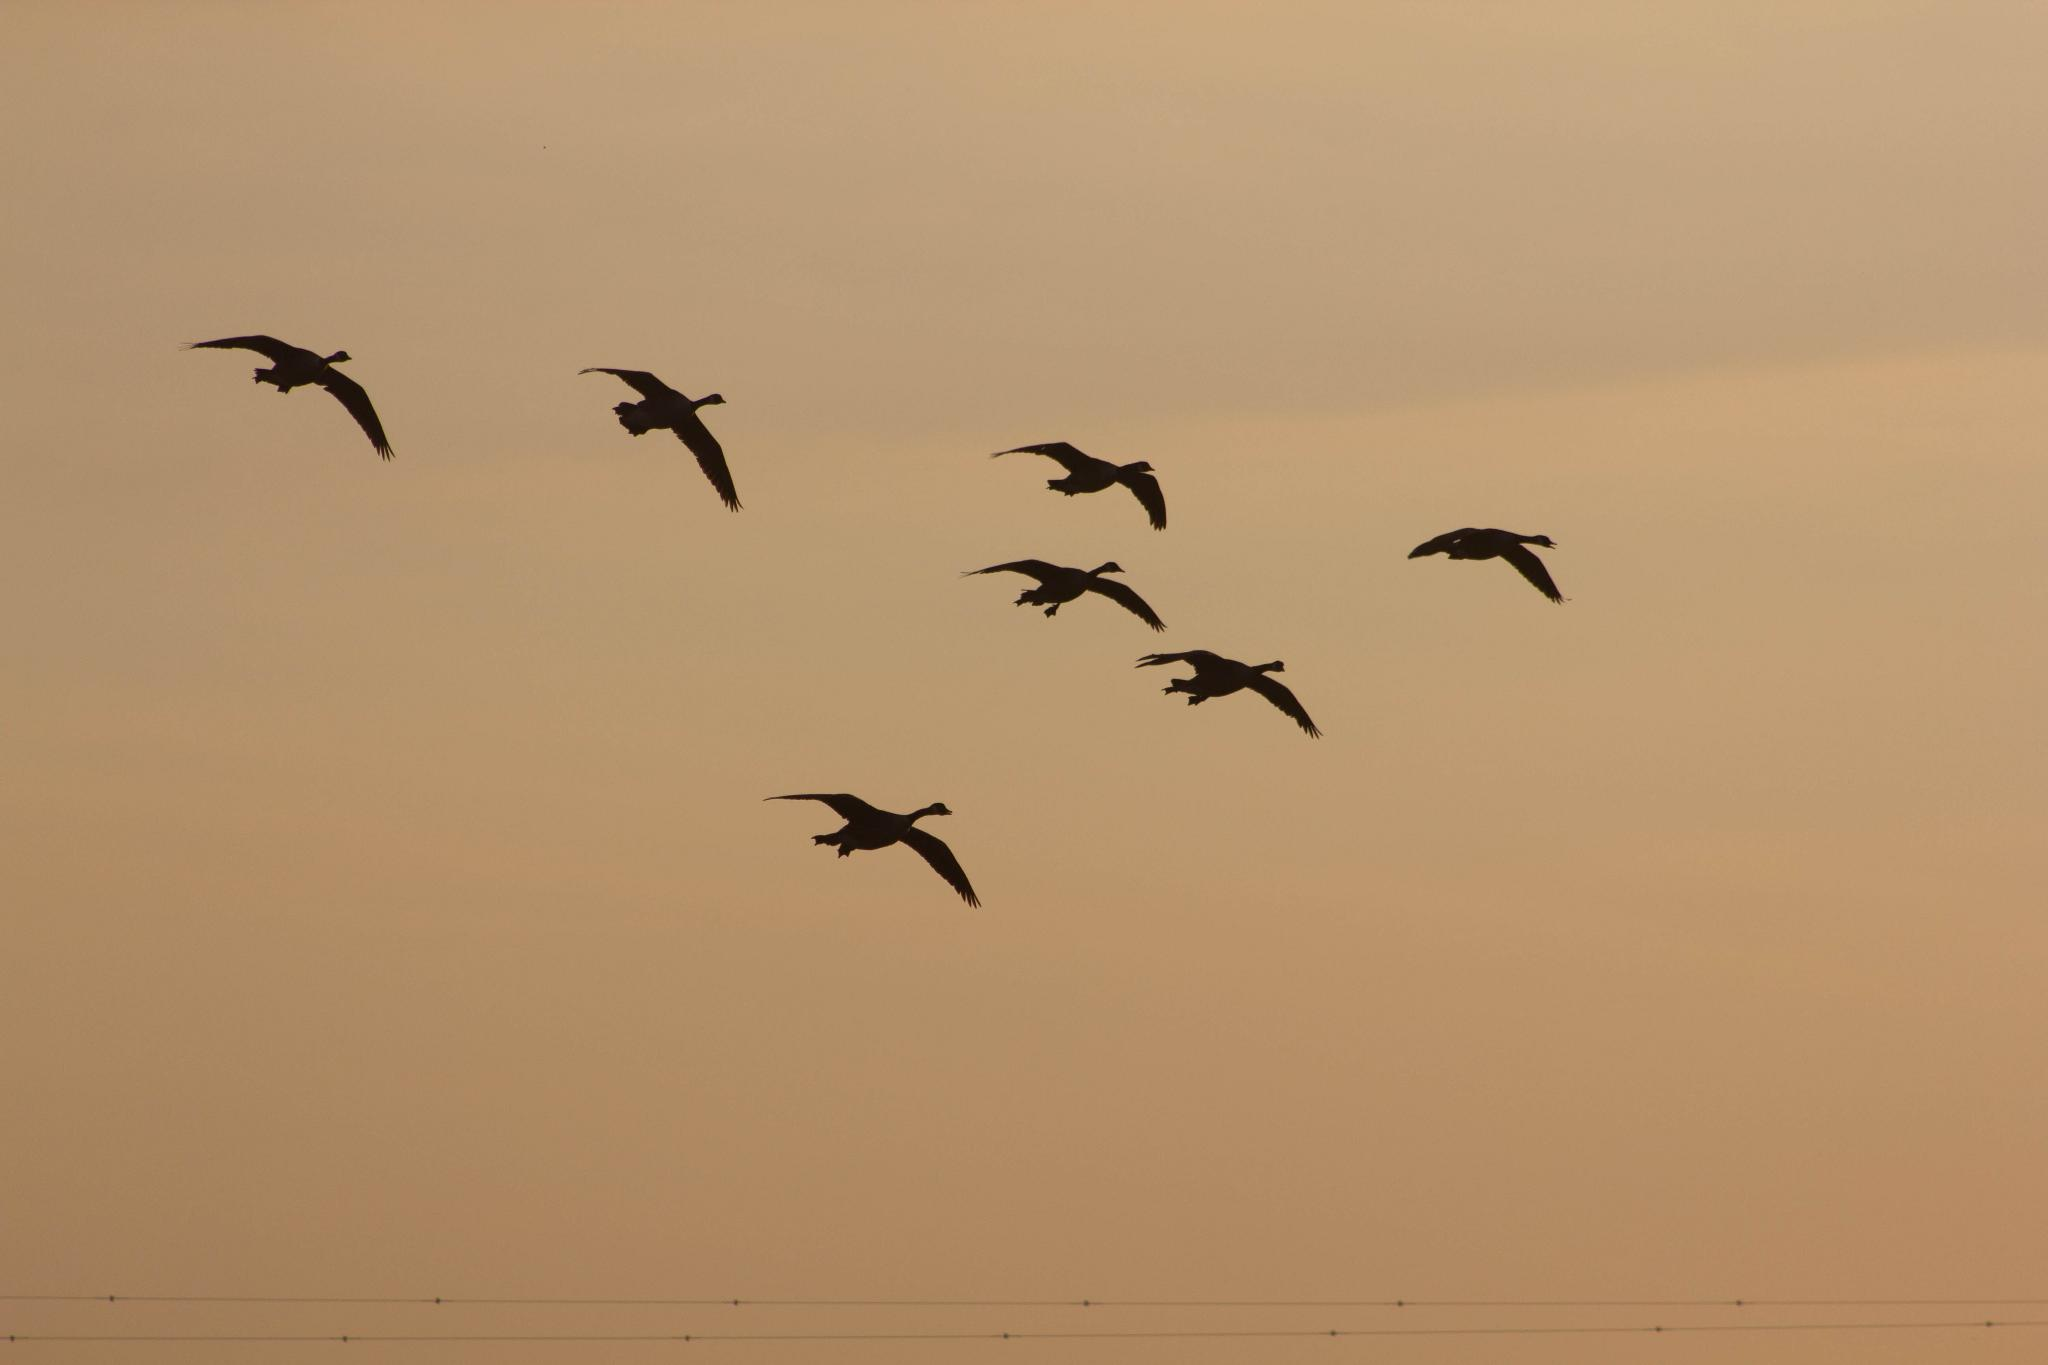bird: (163, 324, 423, 468), (569, 355, 775, 526), (740, 785, 991, 920), (979, 427, 1197, 536), (941, 548, 1191, 638), (1395, 518, 1602, 622), (1125, 647, 1329, 743)
